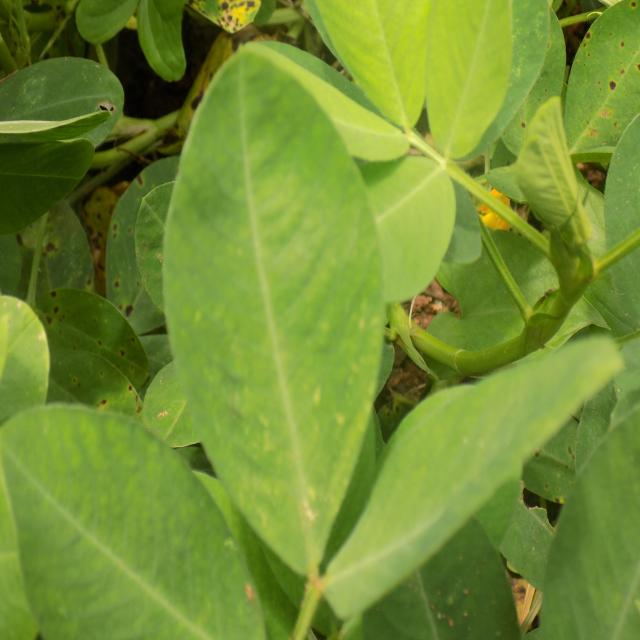Ground nut_healthy: (166, 37, 384, 569), (314, 156, 458, 306)
